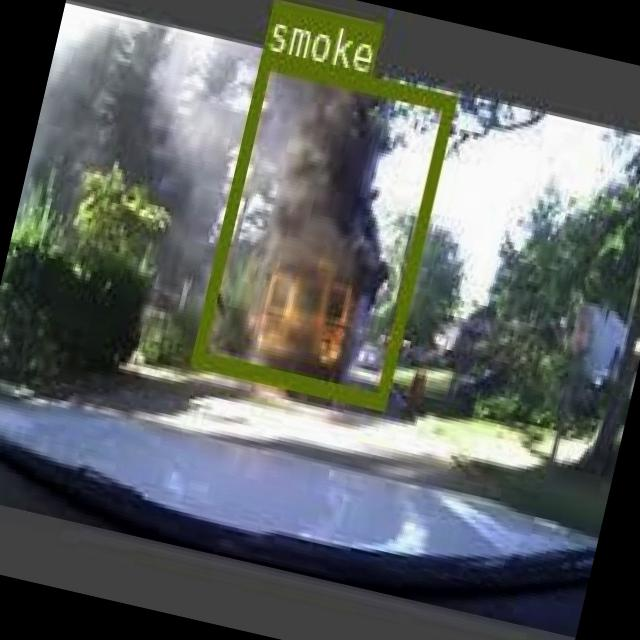smoke: (190, 49, 456, 406)
